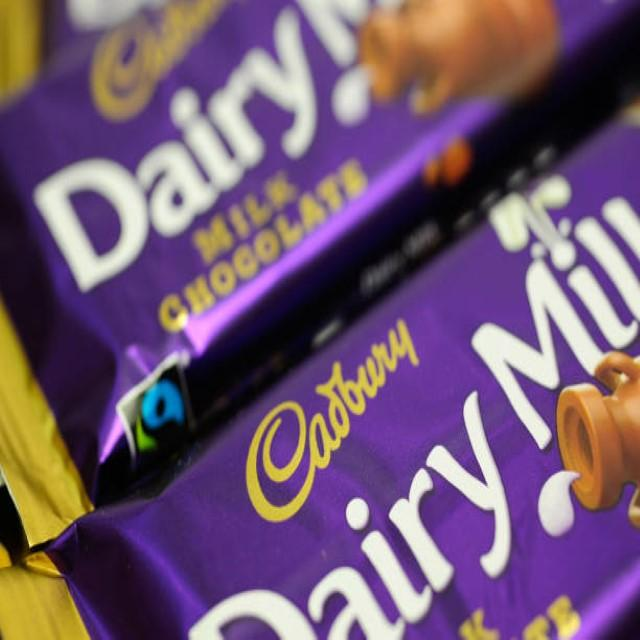cadbury_chocolate: (45, 100, 640, 622), (0, 0, 640, 470)
